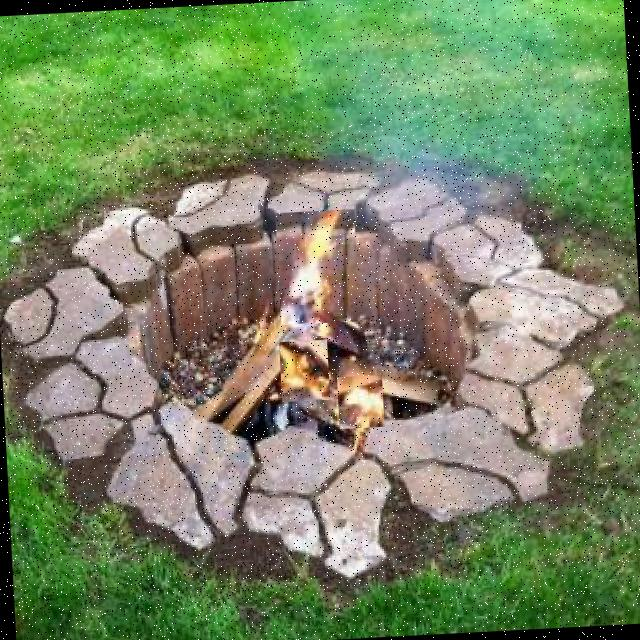fire: (275, 209, 360, 325), (279, 340, 330, 402), (337, 375, 385, 429)
